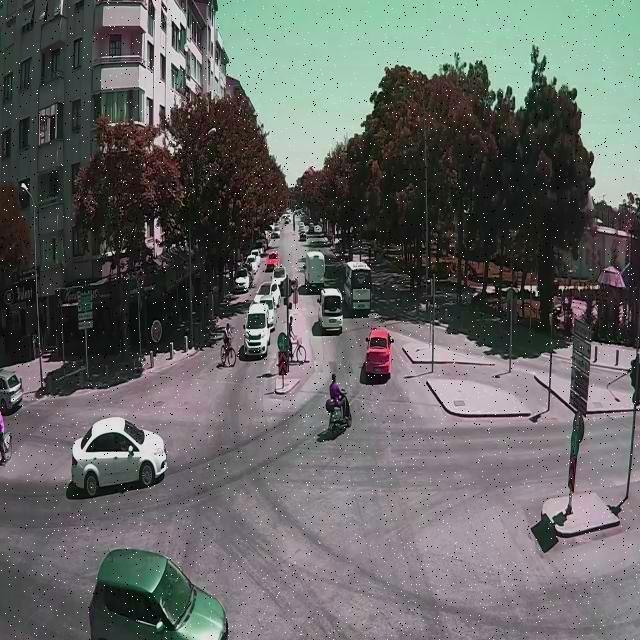Bus: (341, 256, 377, 317), (316, 288, 344, 333)
Car: (80, 546, 237, 640), (61, 416, 179, 509), (364, 322, 394, 380), (0, 358, 29, 415), (242, 306, 270, 353), (253, 278, 285, 306), (228, 269, 250, 305), (270, 261, 290, 286), (262, 294, 277, 327), (264, 249, 281, 270), (298, 226, 310, 243), (269, 227, 280, 242)
Cycle: (322, 367, 354, 427), (216, 320, 238, 368), (284, 314, 306, 361)
Truck: (300, 252, 330, 290)
